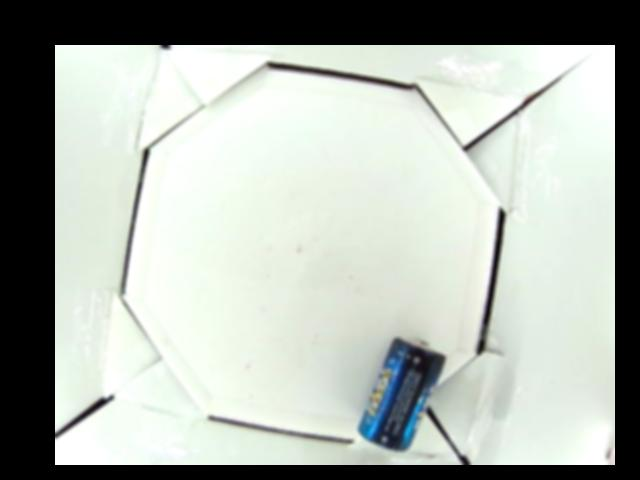Battery: (356, 338, 447, 451)
